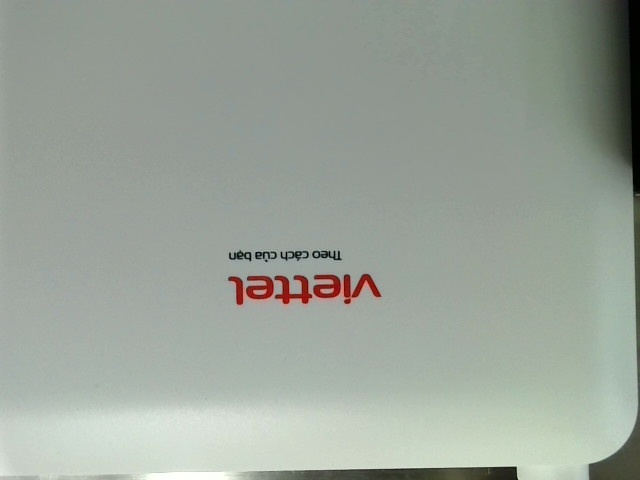AY_Viettel: (216, 248, 388, 304)
